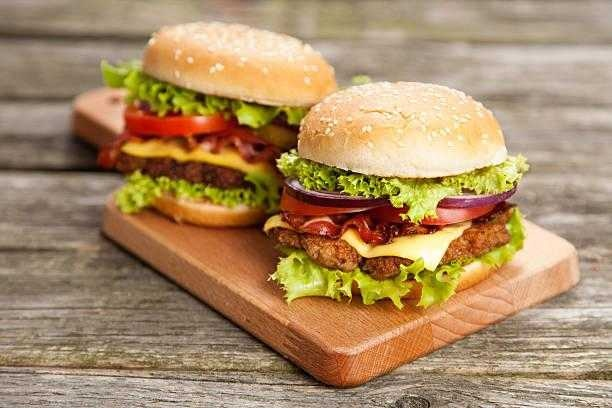hamburger: (271, 62, 533, 284), (133, 27, 325, 232)
